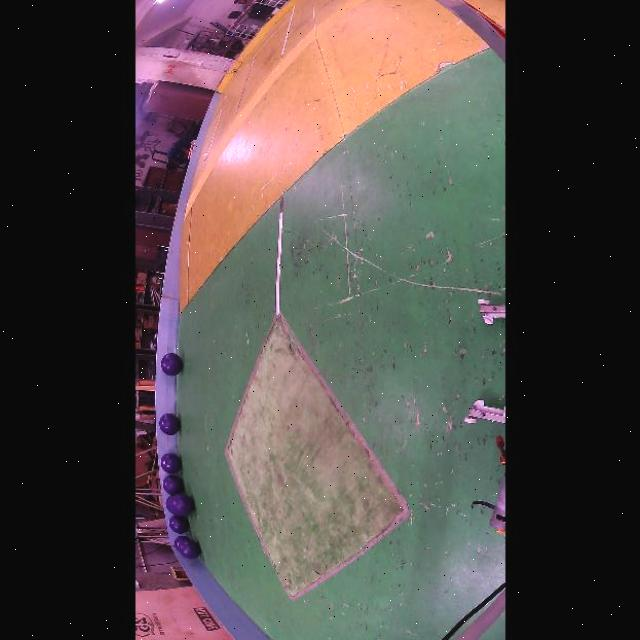P: (164, 493, 193, 516), (159, 353, 181, 376), (158, 413, 179, 435), (159, 453, 180, 474), (161, 475, 181, 495), (179, 539, 199, 558), (167, 516, 188, 534), (172, 535, 186, 551)
